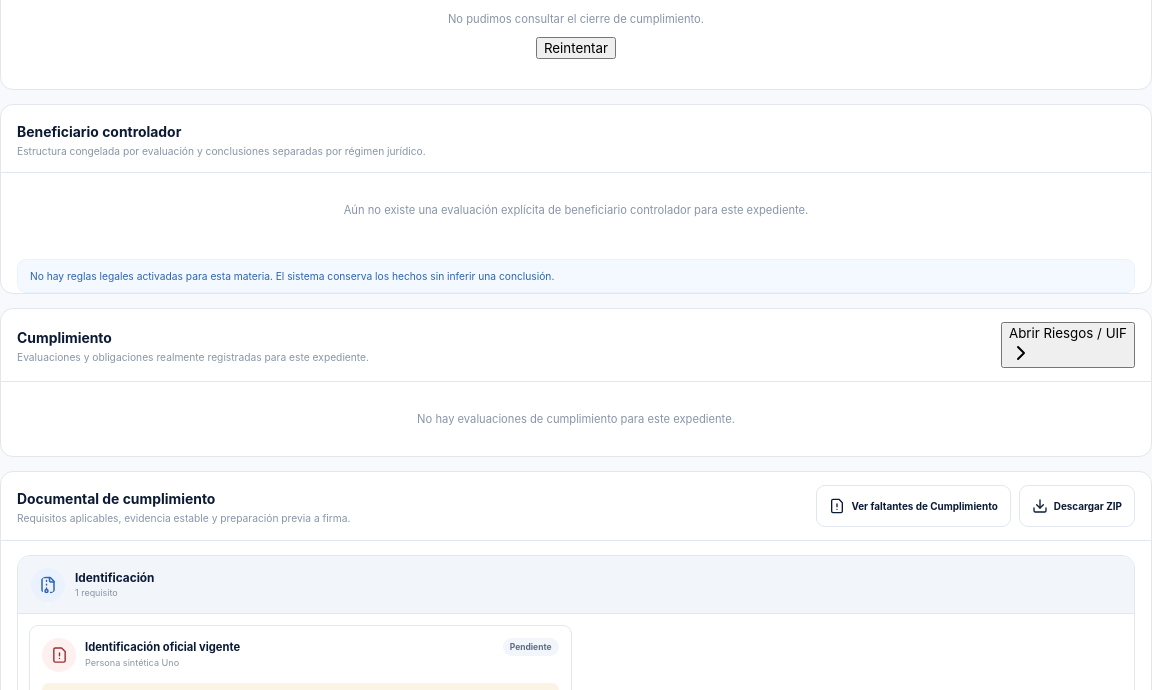
it: H2 CUM-DOC-001 presentation › shows the consolidated missing-items view with actionable requirements
This screenshot has width=1152, height=690.
expect the heading "Documental de cumplimiento" is shown: met, box [17,491,215,507]
What coordinates should you click on to do the following:
click the button "Ver faltantes de Cumplimiento"
I would click on:
 (914, 506)
Its box is [816,485,1011,527].
(page scrolled)
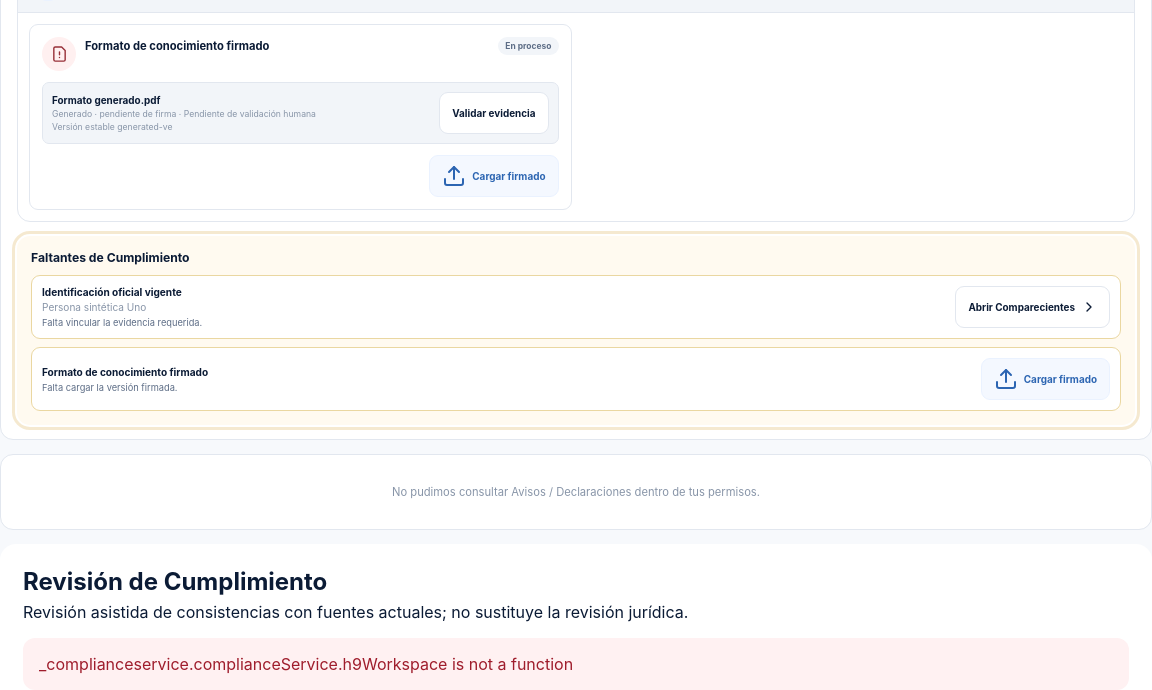
expect the heading "Faltantes de Cumplimiento" is shown: met, box [31,250,190,265]
